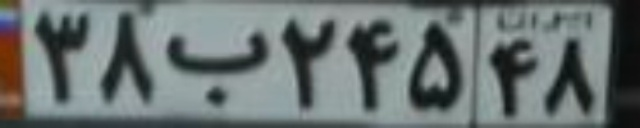2: (282, 18, 335, 108)
3: (32, 10, 91, 103)
4: (342, 19, 401, 110), (486, 38, 539, 116)
5: (408, 19, 464, 110)
8: (97, 11, 153, 104), (546, 36, 597, 116)
be: (164, 30, 269, 106)
